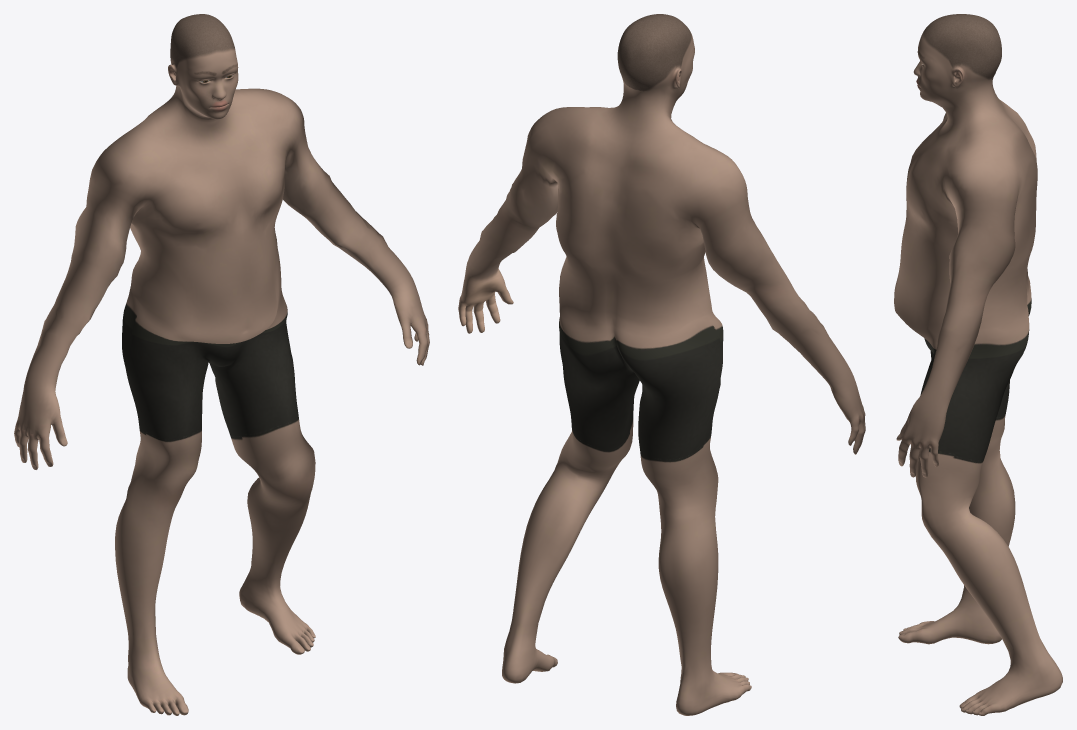
The model's file is body.glb.
3 views of the same model, side by side, from view 1: azimuth 30°, elevation 25°; view 2: azimuth 150°, elevation 25°; view 3: azimuth 270°, elevation 25° (orthographic). The views are drawn at different scales.
Visible parts, largest first — view 1: Body; view 2: Body; view 3: Body.
Boxes of the visible parts, x1=… form: Body: x1=14, y1=14, x2=429, y2=715; Body: x1=458, y1=14, x2=865, y2=715; Body: x1=894, y1=14, x2=1062, y2=715.
Bounding box in the file's own units: 1.11 × 1.75 × 0.4136.
Materials: 1 (1 with a texture image).
